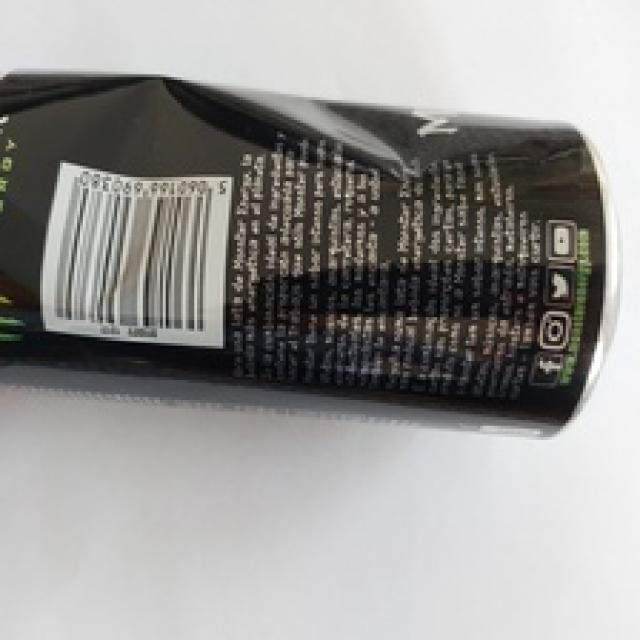recyclable: (0, 66, 624, 432)
